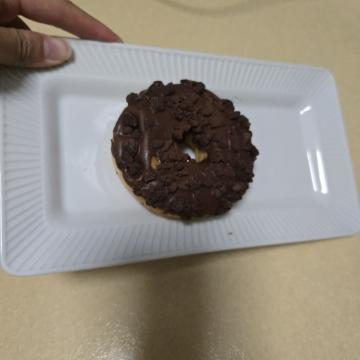doughnut: (64, 94, 232, 258)
